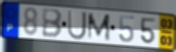5: (118, 14, 136, 44), (139, 17, 157, 45)
8: (22, 6, 40, 38)
B: (41, 9, 64, 40)
M: (86, 13, 112, 42)
U: (66, 9, 88, 41)
